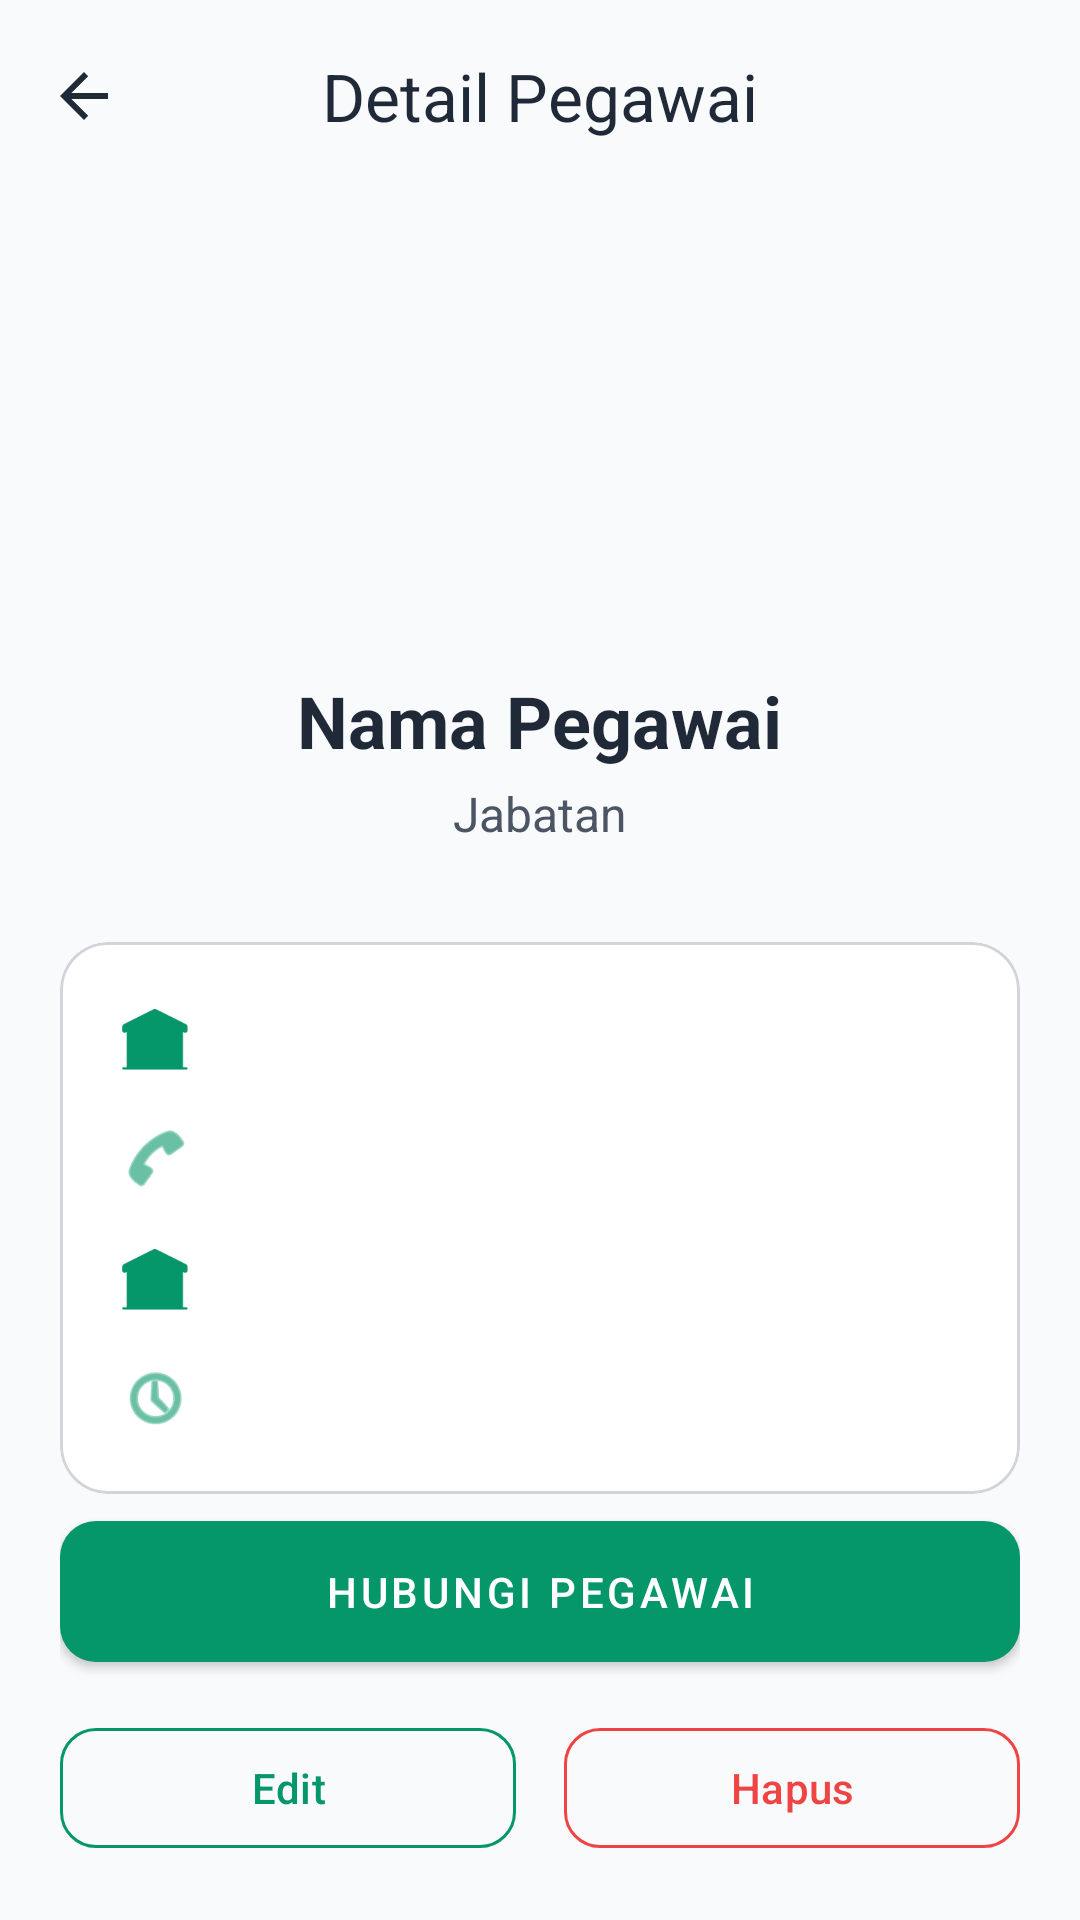

Icon click points for this 1080 × 1920 phone screenshot, format (x=x, y=y):
cabang: (x=155, y=1039), (x=155, y=1279)
call: (x=156, y=1158)
recent history: (x=155, y=1398)
